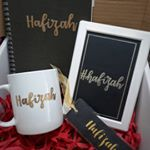cups: (1, 66, 66, 136)
